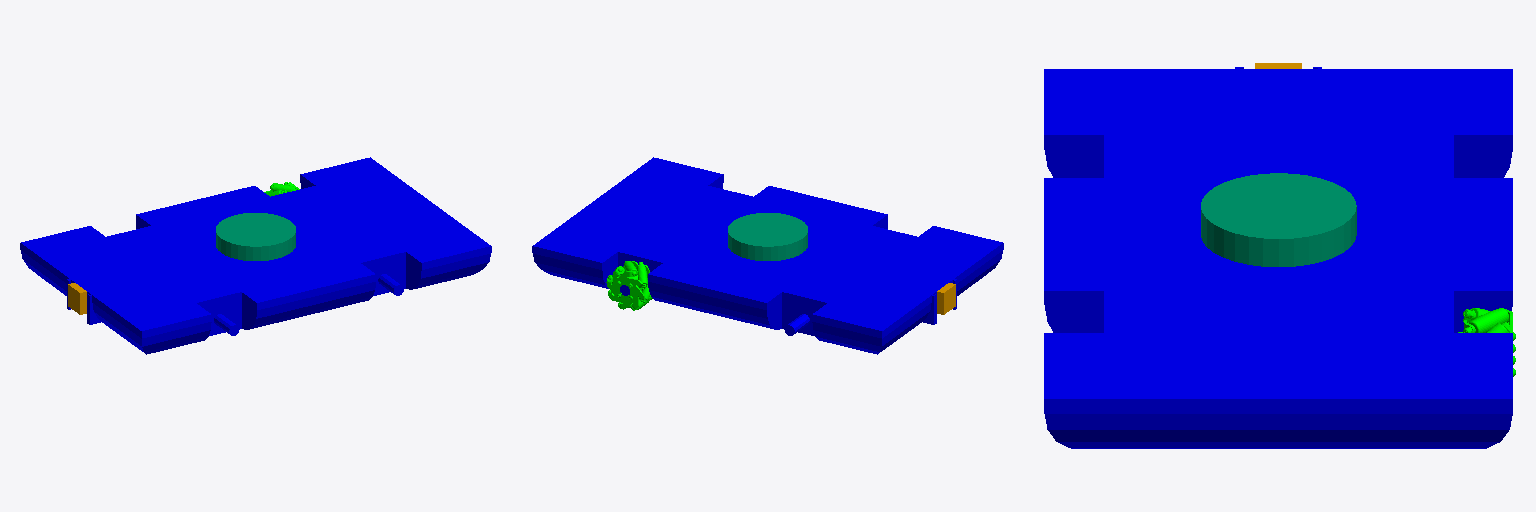
The robot description file, URDF, robot "Mecanum_robot":
<?xml version="1.0" ?>
<!-- =================================================================================== -->
<!-- |    This document was autogenerated by xacro from urdf_final.urdf                | -->
<!-- |    EDITING THIS FILE BY HAND IS NOT RECOMMENDED                                 | -->
<!-- =================================================================================== -->
<robot name="Mecanum_robot">
  <!-- <xacro:include filename="gazebo_control.xacro" /> -->
  <gazebo>
    <plugin filename="gz-sim-joint-state-publisher-system" name="gz::sim::systems::JointStatePublisher">
      <joint_name>chasis_joint</joint_name>
      <joint_name>back_right_wheel_joint</joint_name>
      <joint_name>back_left_wheel_joint</joint_name>
      <joint_name>front_right_wheel_joint</joint_name>
      <joint_name>front_left_wheel_joint</joint_name>
    </plugin>
  </gazebo>
  <!-- <gazebo>
        <plugin name="gazebo_ros_joint_pose_trajectory"
            filename="libgazebo_ros_joint_pose_trajectory.so">
            <update_rate>20</update_rate>
        </plugin>
    </gazebo> -->
  <joint name="camera_joint" type="fixed">
    <origin rpy="0 0 3.141592653589793" xyz="-0.255 0 -0.015"/>
    <parent link="chasis"/>
    <child link="camera_link"/>
  </joint>
  <link name="camera_link">
    <visual>
      <geometry>
        <box size="0.010 0.03 0.03"/>
      </geometry>
    </visual>
  </link>
  <joint name="camera_optical_joint" type="fixed">
    <origin rpy="-1.5707963267948966 0 -0.14279966607226333" xyz="0 0 0"/>
    <parent link="camera_link"/>
    <child link="camera_link_optical"/>
  </joint>
  <link name="camera_link_optical">
    <gazebo reference="camera_link">
      <material>Gazebo/Red</material>
      <sensor name="camera" type="camera">
        <always_on>true</always_on>
        <visualize>true</visualize>
        <update_rate>30</update_rate>
        <topic>camera/image_raw</topic>
        <gz_frame_id>camera_rgb_frame</gz_frame_id>
        <camera name="intel_realsense_r200">
          <camera_info_topic>camera/camera_info</camera_info_topic>
          <horizontal_fov>1.089</horizontal_fov>
          <image>
            <format>R8G8B8</format>
            <width>640</width>
            <height>480</height>
          </image>
          <clip>
            <near>0.05</near>
            <far>8.0</far>
          </clip>
        </camera>
        <plugin filename="libgazebo_ros_camera.so" name="camera_driver">
          <frame_name>camera_link_optical</frame_name>
        </plugin>
      </sensor>
    </gazebo>
  </link>
  <joint name="lidar_joint" type="fixed">
    <origin rpy="0 0 0" xyz="0 0 0"/>
    <parent link="chasis"/>
    <child link="lidar_frame"/>
  </joint>
  <link name="lidar_frame">
    <visual>
      <geometry>
        <cylinder length="0.04" radius="0.05"/>
        <material name="red"/>
      </geometry>
    </visual>
    <collision>
      <geometry>
        <cylinder length="0.04" radius="0.05"/>
      </geometry>
    </collision>
    <inertial>
      <origin rpy="0 0 0" xyz="0 0 0"/>
      <mass value="0.1"/>
      <inertia ixx="7.583333333333335e-05" ixy="0.0" ixz="0.0" iyy="7.583333333333335e-05" iyz="0.0" izz="0.00012500000000000003"/>
    </inertial>
    <gazebo reference="lidar_head_link">
      <sensor name="lidar_head_link" type="gpu_lidar">
        <always_on>true</always_on>
        <visualize>true</visualize>
        <pose relative_to="lidar_frame">0 0 0 0 0 0</pose>
        <update_rate>30</update_rate>
        <gz_frame_id>lidar_head_link</gz_frame_id>
        <topic>scan</topic>
        <lidar>
          <scan>
            <horizontal>
              <samples>640</samples>
              <resolution>1</resolution>
              <min_angle>-1.396263</min_angle>
              <max_angle>1.396263</max_angle>
            </horizontal>
            <vertical>
              <samples>1</samples>
              <resolution>0.01</resolution>
              <min_angle>0</min_angle>
              <max_angle>0</max_angle>
            </vertical>
          </scan>
          <range>
            <min>0.08</min>
            <max>10.0</max>
            <resolution>0.01</resolution>
          </range>
          <frame_id>/lidar_head_link</frame_id>
        </lidar>
      </sensor>
    </gazebo>
    <gazebo>
      <plugin filename="gz-sim-sensors-system" name="gz::sim::systems::Sensors">
        <render_engine>ogre2</render_engine>
      </plugin>
    </gazebo>
  </link>
  <material name="red">
    <color rgba="1 0 0 1"/>
  </material>
  <material name="blue">
    <color rgba="0 0 1 1"/>
  </material>
  <material name="green">
    <color rgba="0 1 0 1"/>
  </material>
  <material name="brown">
    <color rgba="0.65 0.16 0.16 1"/>
  </material>
  <material name="violet">
    <color rgba="0.56 0 1 1"/>
  </material>
  <!-- <xacro:include filename="gazeboDepthCamera.xacro" /> -->
  <link name="base_link">
    <inertial>
      <origin xyz="0 0 0"/>
      <mass value="0.1"/>
      <inertia ixx="0.001" ixy="0.0" ixz="0.0" iyy="0.001" iyz="0.0" izz="0.001"/>
    </inertial>
    <collision>
      <origin xyz="0 0 0"/>
      <geometry>
        <box size="0.01 0.01 0.01"/>
      </geometry>
    </collision>
  </link>
  <link name="chasis">
    <inertial>
      <origin rpy="0 0 0" xyz="-8.294E-05 -7.7011E-11 -0.023972"/>
      <mass value="6.5996"/>
      <inertia ixx="0.043356" ixy="-1.6809E-08" ixz="-1.7057E-07" iyy="0.13461" iyz="3.8673E-11" izz="0.17533"/>
    </inertial>
    <visual>
      <origin rpy="0 0 0" xyz="0 0 0"/>
      <geometry>
        <mesh filename="package://mecanum_robot_simulation/description/meshes/chasis.STL"/>
      </geometry>
      <material name="blue"/>
    </visual>
    <collision>
      <origin rpy="0 0 0" xyz="0 0 -0.025"/>
      <geometry>
        <box size="0.50 0.40 0.05"/>
      </geometry>
    </collision>
  </link>
  <joint name="chasis_joint" type="fixed">
    <origin rpy="0 0 0" xyz="0 0 0"/>
    <parent link="base_link"/>
    <child link="chasis"/>
  </joint>
  <link name="back_right_wheel_link">
    <inertial>
      <origin rpy="0 0 0" xyz="1.624E-12 -3.4926E-12 0.021031"/>
      <mass value="0.049871"/>
      <inertia ixx="5.3189E-06" ixy="1.2084E-15" ixz="-9.388E-17" iyy="5.3189E-06" iyz="1.994E-16" izz="6.4396E-06"/>
    </inertial>
    <visual>
      <origin rpy="0 0 0" xyz="0 0 0"/>
      <geometry>
        <mesh filename="package://mecanum_robot_simulation/description/meshes/back_right_wheel.STL"/>
      </geometry>
      <material name="green"/>
    </visual>
    <collision>
      <origin rpy="0 0 0" xyz="0 0 0"/>
      <geometry>
        <cylinder length="0.039" radius="0.029"/>
      </geometry>
    </collision>
  </link>
  <joint name="back_right_wheel_joint" type="continuous">
    <origin rpy="1.5708 0 3.1416" xyz="0.1175 0.113 -0.03"/>
    <parent link="chasis"/>
    <child link="back_right_wheel_link"/>
    <axis xyz="0 0 1"/>
    <limit effort="200" lower="-3.14" upper="3.14" velocity="5"/>
  </joint>
  <link name="back_left_wheel_link">
    <inertial>
      <origin rpy="0 0 0" xyz="-6.2922E-13 3.7938E-12 0.021031"/>
      <mass value="0.049871"/>
      <inertia ixx="5.3189E-06" ixy="5.4099E-16" ixz="3.9906E-17" iyy="5.3189E-06" iyz="-2.1312E-16" izz="6.4396E-06"/>
    </inertial>
    <visual>
      <origin rpy="0 0 0" xyz="0 0 0"/>
      <geometry>
        <mesh filename="package://mecanum_robot_simulation/description/meshes/back_left_wheel.STL"/>
      </geometry>
      <material name="green"/>
    </visual>
    <collision>
      <origin rpy="0 0 0" xyz="0 0 0"/>
      <geometry>
        <cylinder length="0.039" radius="0.029"/>
      </geometry>
    </collision>
  </link>
  <joint name="back_left_wheel_joint" type="continuous">
    <origin rpy="-1.5708 0 3.1416" xyz="0.1175 -0.113 -0.03"/>
    <parent link="chasis"/>
    <child link="back_left_wheel_link"/>
    <axis xyz="0 0 1"/>
    <limit effort="200" lower="-3.14" upper="3.14" velocity="5"/>
  </joint>
  <link name="front_right_wheel_link">
    <inertial>
      <origin rpy="0 0 0" xyz="-6.2939E-13 3.7953E-12 0.021031"/>
      <mass value="0.049871"/>
      <inertia ixx="5.3189E-06" ixy="5.4109E-16" ixz="3.6773E-17" iyy="5.3189E-06" iyz="-2.1556E-16" izz="6.4396E-06"/>
    </inertial>
    <visual>
      <origin rpy="0 0 0" xyz="0 0 0"/>
      <geometry>
        <mesh filename="package://mecanum_robot_simulation/description/meshes/front_right_wheel.STL"/>
      </geometry>
      <material name="green"/>
    </visual>
    <collision>
      <origin rpy="0 0 0" xyz="0 0 0"/>
      <geometry>
        <cylinder length="0.039" radius="0.029"/>
      </geometry>
    </collision>
  </link>
  <joint name="front_right_wheel_joint" type="continuous">
    <origin rpy="1.5708 0 3.1416" xyz="-0.1175 0.113 -0.03"/>
    <parent link="chasis"/>
    <child link="front_right_wheel_link"/>
    <axis xyz="0 0 1"/>
    <limit effort="200" lower="-3.14" upper="3.14" velocity="5"/>
  </joint>
  <link name="front_left_wheel_link">
    <inertial>
      <origin rpy="0 0 0" xyz="1.451E-12 -3.5752E-12 0.021031"/>
      <mass value="0.049871"/>
      <inertia ixx="5.3189E-06" ixy="1.1259E-15" ixz="-8.0856E-17" iyy="5.3189E-06" iyz="2.0104E-16" izz="6.4396E-06"/>
    </inertial>
    <visual>
      <origin rpy="0 0 0" xyz="0 0 0"/>
      <geometry>
        <mesh filename="package://mecanum_robot_simulation/description/meshes/front_left_wheel.STL"/>
        <material name="green"/>
      </geometry>
    </visual>
    <collision>
      <origin rpy="0 0 0" xyz="0 0 0"/>
      <geometry>
        <cylinder length="0.039" radius="0.029"/>
      </geometry>
    </collision>
  </link>
  <joint name="front_left_wheel_joint" type="continuous">
    <origin rpy="-1.5708 0 3.1416" xyz="-0.1175 -0.113 -0.03"/>
    <parent link="chasis"/>
    <child link="front_left_wheel_link"/>
    <axis xyz="0 0 1"/>
    <limit effort="200" lower="-3.14" upper="3.14" velocity="5"/>
  </joint>
</robot>

--- Facts derived from the render (not from the file) ---
3 views of the same robot in one strip: view 1: azimuth 30°, elevation 25°; view 2: azimuth 150°, elevation 25°; view 3: azimuth 270°, elevation 25° (orthographic).
Robot: Mecanum_robot — 9 links, 8 joints (4 continuous, 4 fixed); root link base_link; default pose: all joints at 0.
Visible links, largest first — view 1: chasis, lidar_frame; view 2: chasis, lidar_frame, back_right_wheel_link; view 3: chasis, lidar_frame, back_right_wheel_link.
Link boxes in pixels (x1,y1,x2,y2): chasis: (20,157,491,354); lidar_frame: (216,213,295,260); chasis: (532,157,1003,354); lidar_frame: (728,213,807,260); back_right_wheel_link: (606,261,652,310); chasis: (1044,67,1512,448); lidar_frame: (1201,173,1356,266); back_right_wheel_link: (1458,308,1515,376).
Size in the robot's own frame: 0.51 by 0.3017 by 0.079 metres.
Meshes: 5 distinct files referenced, 2 mesh visuals loaded (2 binary STL); not drawn: 3 (reference not matched to a file when rendering).